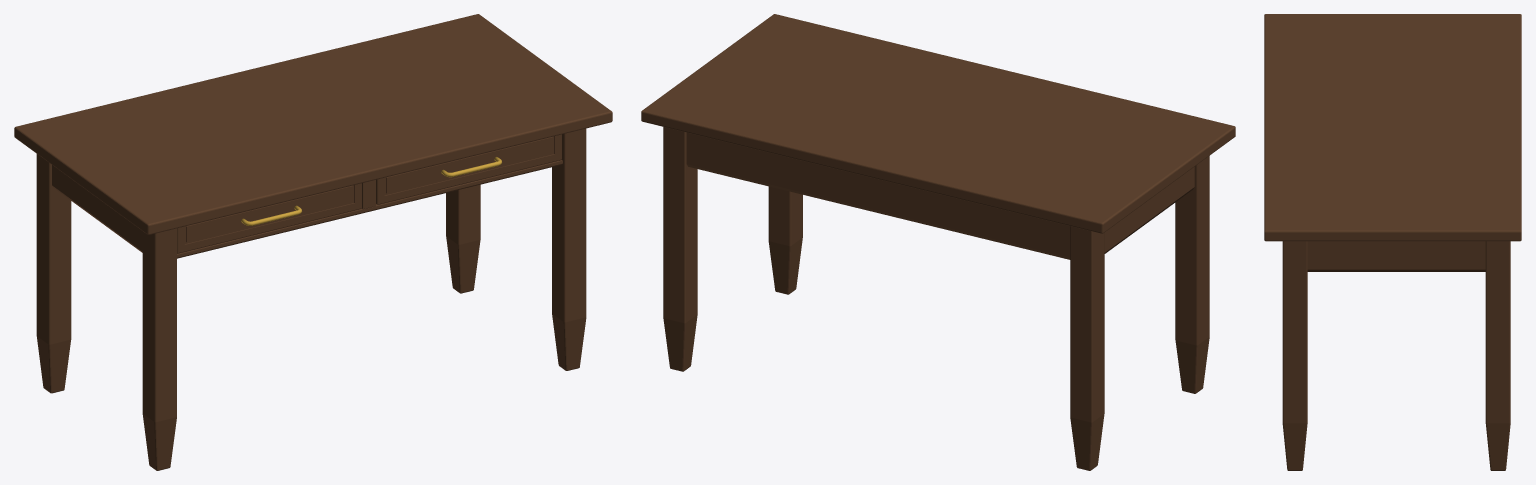
3 renders of one model, left to right at view 1: azimuth 30°, elevation 25°; view 2: azimuth 150°, elevation 25°; view 3: azimuth 270°, elevation 25°, orthographic. The views are drawn at different scales.
Visible parts, largest first — view 1: Platte, Bein_vorne_links, Bein_vorne_rechts, Bein_hinten_links, Schubfront_rechts, Schubfront_links, Bein_hinten_rechts, Frontleiste, Zarge_links; view 2: Platte, Zarge_hinten, Bein_hinten_links, Bein_hinten_rechts, Bein_vorne_links, Bein_vorne_rechts, Zarge_links; view 3: Platte, Bein_vorne_rechts, Bein_hinten_rechts, Zarge_rechts.
Part boxes in pixels (x1,y1,x2,y2): Platte: [14, 14, 612, 234]; Bein_vorne_links: [142, 228, 176, 470]; Bein_vorne_rechts: [552, 128, 586, 370]; Bein_hinten_links: [36, 154, 71, 393]; Schubfront_rechts: [376, 134, 561, 204]; Schubfront_links: [177, 183, 361, 253]; Bein_hinten_rechts: [446, 184, 480, 293]; Frontleiste: [177, 160, 562, 258]; Zarge_links: [52, 165, 142, 252]; Platte: [641, 14, 1235, 233]; Zarge_hinten: [686, 132, 1070, 259]; Bein_hinten_links: [1070, 226, 1104, 470]; Bein_hinten_rechts: [663, 127, 697, 371]; Bein_vorne_links: [1175, 156, 1209, 393]; Bein_vorne_rechts: [768, 186, 802, 294]; Zarge_links: [1104, 167, 1194, 253]; Platte: [1264, 14, 1521, 241]; Bein_vorne_rechts: [1282, 241, 1307, 470]; Bein_hinten_rechts: [1485, 241, 1510, 470]; Zarge_rechts: [1307, 241, 1485, 271].
Size of the model in its own units: 1.4 by 0.75 by 0.7.
